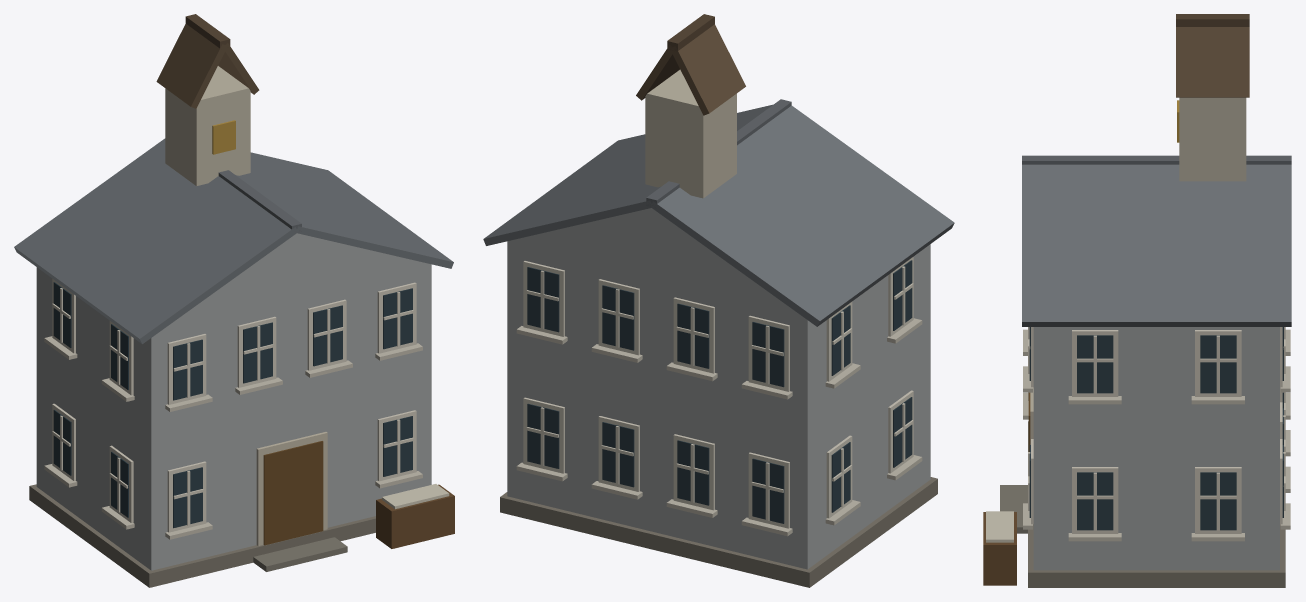
Rendered from procedural_study@6.glb.
3 renders of one model, left to right at view 1: azimuth 30°, elevation 25°; view 2: azimuth 150°, elevation 25°; view 3: azimuth 270°, elevation 25°, orthographic. The views are drawn at different scales.
Visible parts, largest first — view 1: part_0; view 2: part_0; view 3: part_0.
Boxes of the visible parts, x1,y1,x2,y2 form: part_0: [14, 14, 454, 587]; part_0: [483, 14, 954, 587]; part_0: [983, 14, 1291, 587].
Size of the model in its own units: 6.96 by 9.77 by 5.51.
